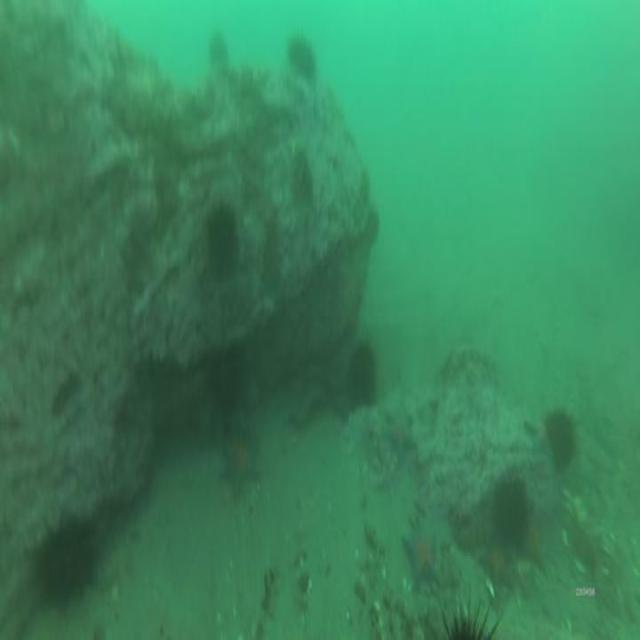echinus: (34, 523, 97, 607), (493, 478, 529, 554), (205, 210, 239, 274), (348, 342, 378, 409), (204, 357, 240, 406), (548, 411, 576, 468), (288, 34, 315, 78), (208, 33, 228, 63)
scallop: (572, 492, 588, 523)
starfish: (403, 515, 439, 586), (222, 435, 260, 496), (481, 548, 509, 598)
